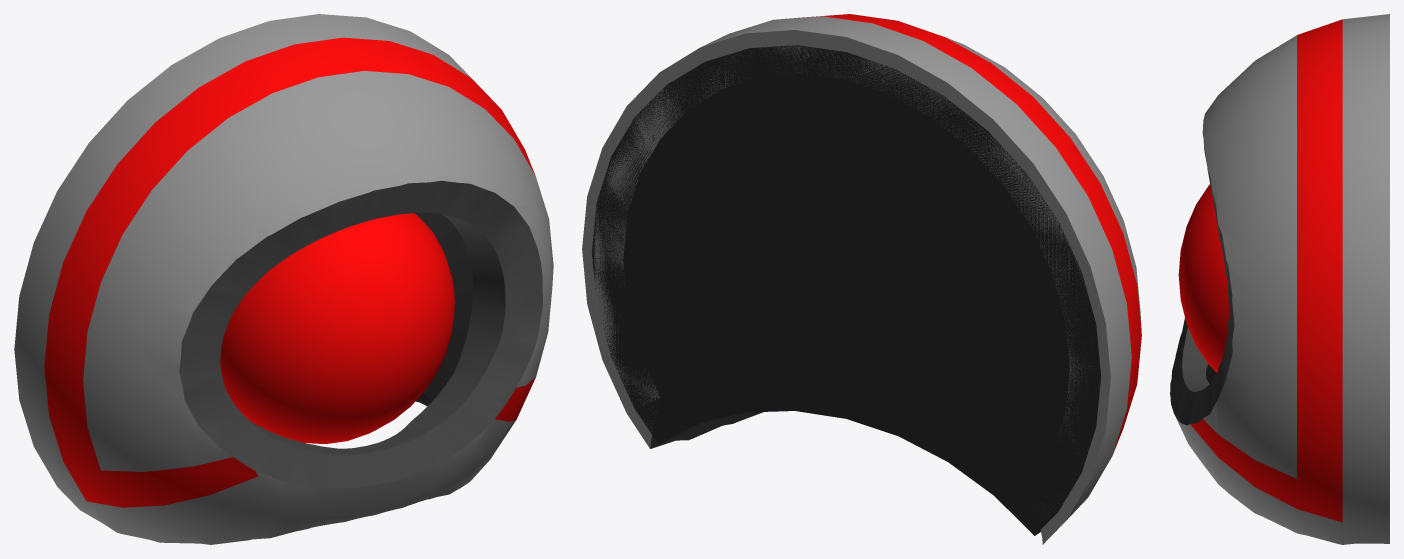
File: nexusTurret.obj
3 views of the same model, side by side, from view 1: azimuth 30°, elevation 25°; view 2: azimuth 150°, elevation 25°; view 3: azimuth 270°, elevation 25° (orthographic). The views are drawn at different scales.
Visible parts, largest first — view 1: Sphere002, Sphere006, Cylinder034; view 2: Cylinder034, Sphere002; view 3: Sphere002, Sphere006.
Boxes of the visible parts, box(x1,y1,x2,y2) form: Sphere002: box(14, 14, 553, 544); Sphere006: box(220, 213, 455, 443); Cylinder034: box(415, 212, 473, 406); Cylinder034: box(591, 45, 1101, 535); Sphere002: box(582, 14, 1141, 544); Sphere002: box(1170, 14, 1389, 544); Sphere006: box(1178, 184, 1228, 372).
Size of the model in its own units: 1.64 by 1.38 by 0.6508.
